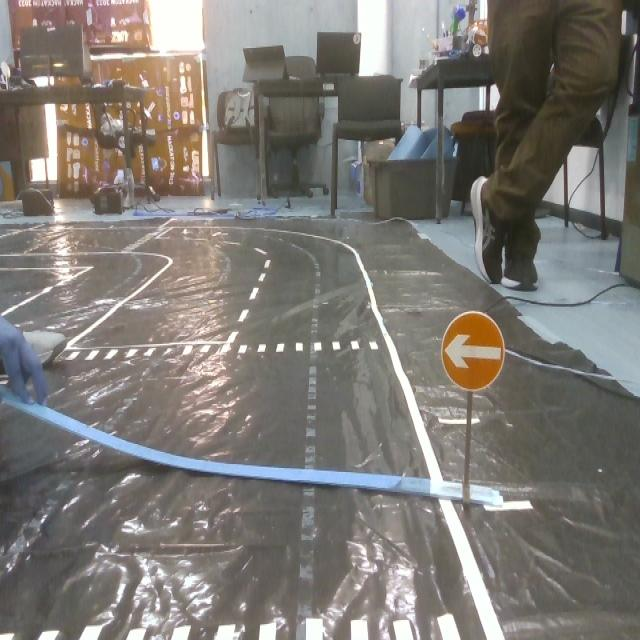forward: (438, 308, 508, 395)
